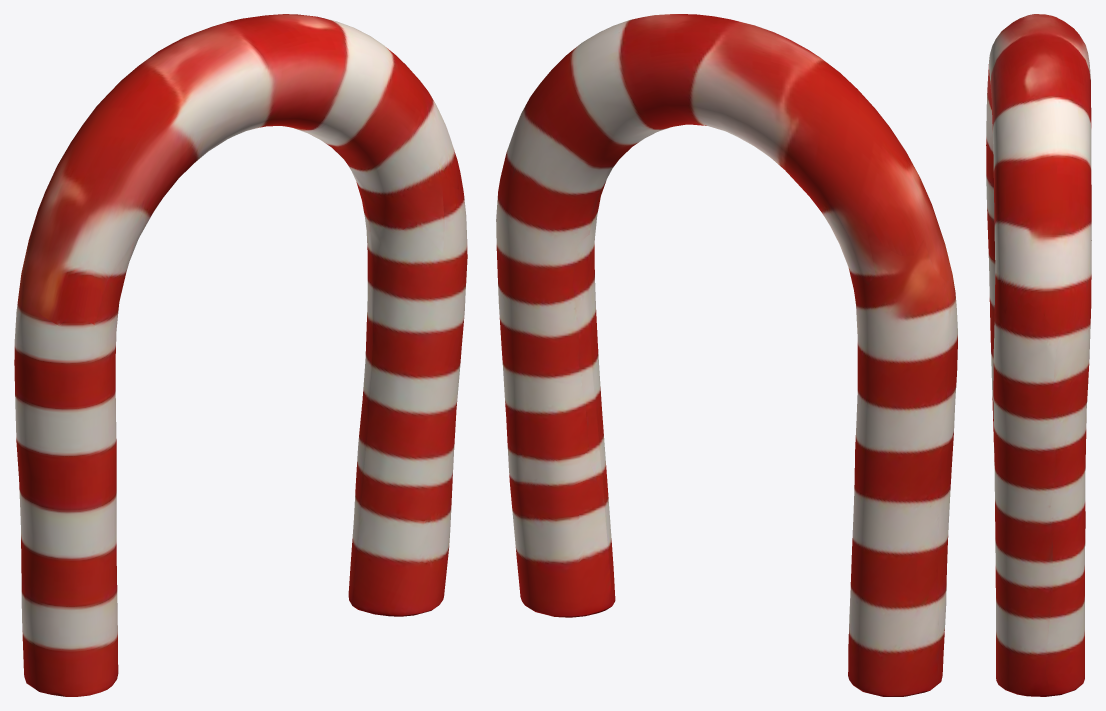
The model's file is m2CandyCaneArch.glb.
3 renders of one model, left to right at view 1: azimuth 30°, elevation 25°; view 2: azimuth 150°, elevation 25°; view 3: azimuth 270°, elevation 25°, orthographic. The views are drawn at different scales.
Visible parts, largest first — view 1: model; view 2: model; view 3: model.
Part boxes in pixels (x1,y1,x2,y2): model: (14, 14, 467, 696); model: (496, 14, 957, 696); model: (986, 14, 1091, 696).
Bounding box in the file's own units: 1.44 × 1.9 × 0.3177.
1 material, 1 textured.
